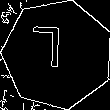L_S: (41, 29, 74, 80)
